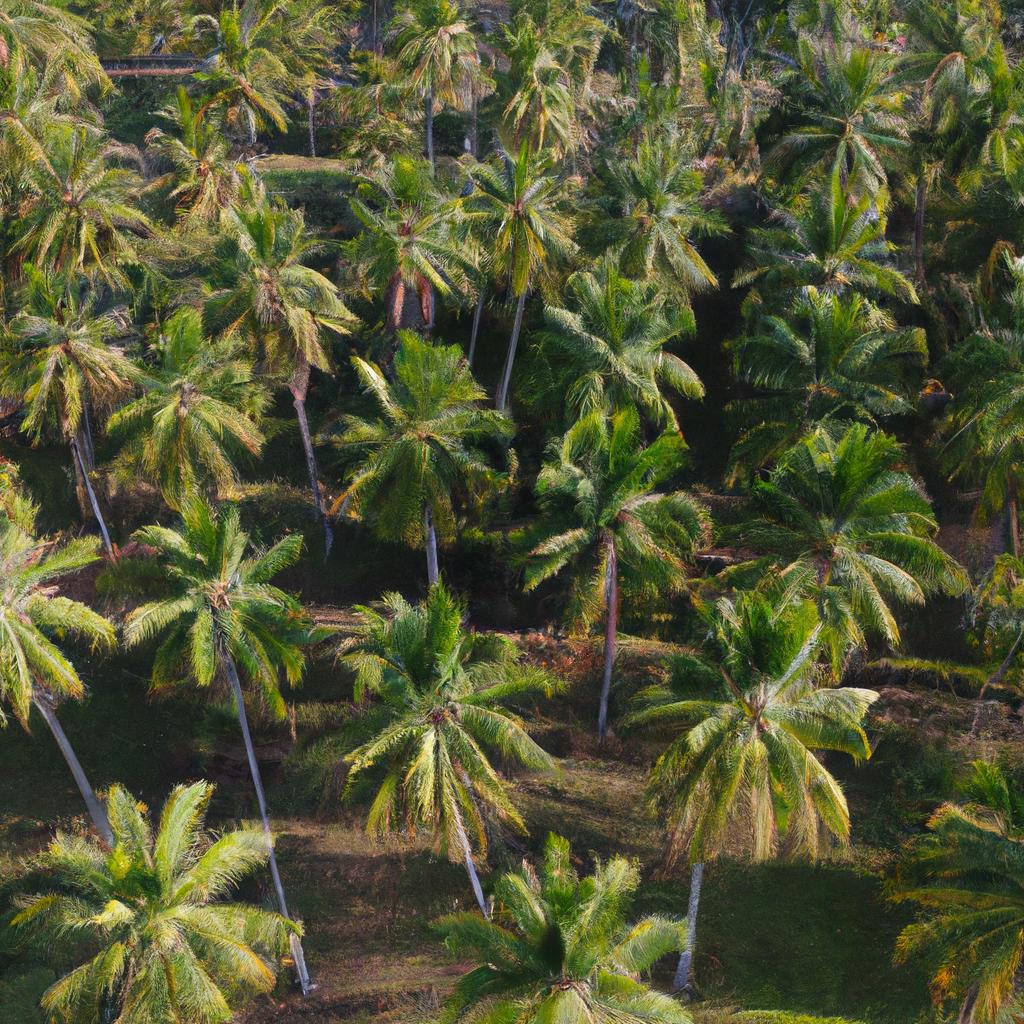coconut_tree: (589, 593, 900, 870), (19, 767, 320, 1021), (317, 577, 549, 854), (82, 497, 336, 737), (428, 834, 730, 1016), (732, 443, 978, 656), (313, 328, 520, 544), (527, 412, 741, 613), (124, 331, 282, 504), (197, 210, 351, 385), (3, 272, 141, 456), (347, 153, 479, 318), (459, 147, 593, 291)
